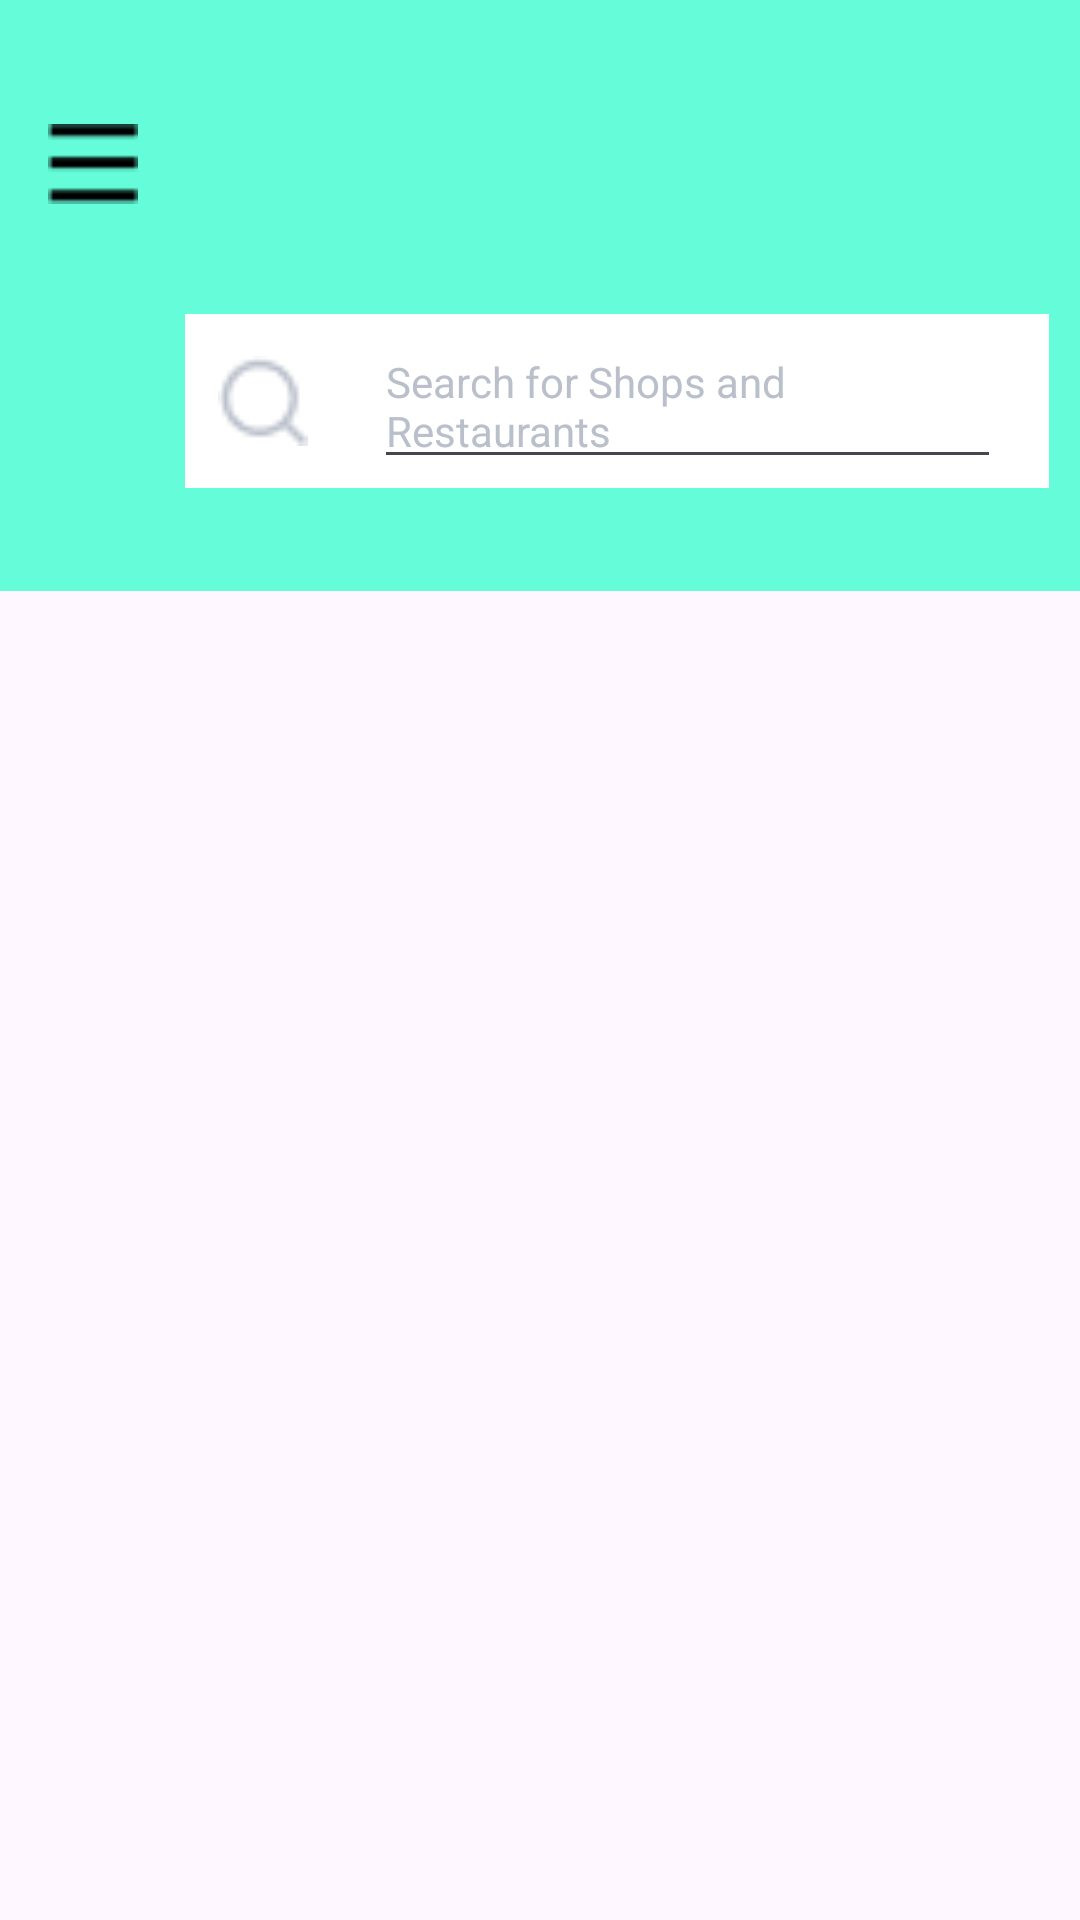

Locate icon controls on the screen. Image size 1080w x 1920h, boxes as (x1, y1, x2, y2).
menu: (48, 124, 138, 204)
